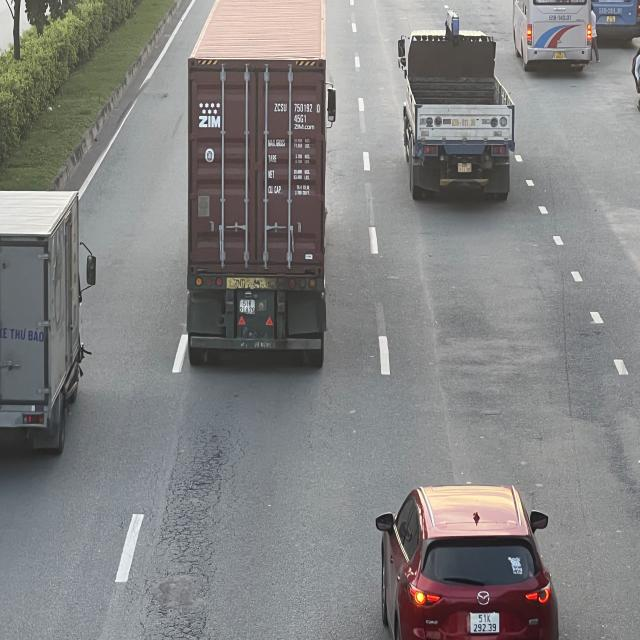car: (372, 486, 556, 640)
coach: (510, 0, 595, 69)
container: (191, 0, 340, 362)
truck: (0, 187, 92, 455), (398, 34, 514, 204)
